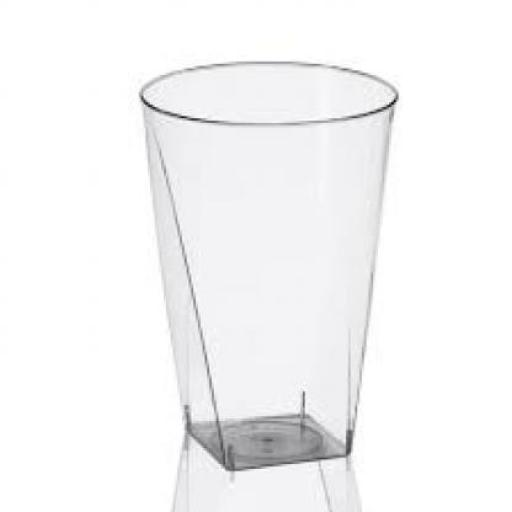glass: (137, 59, 396, 469)
